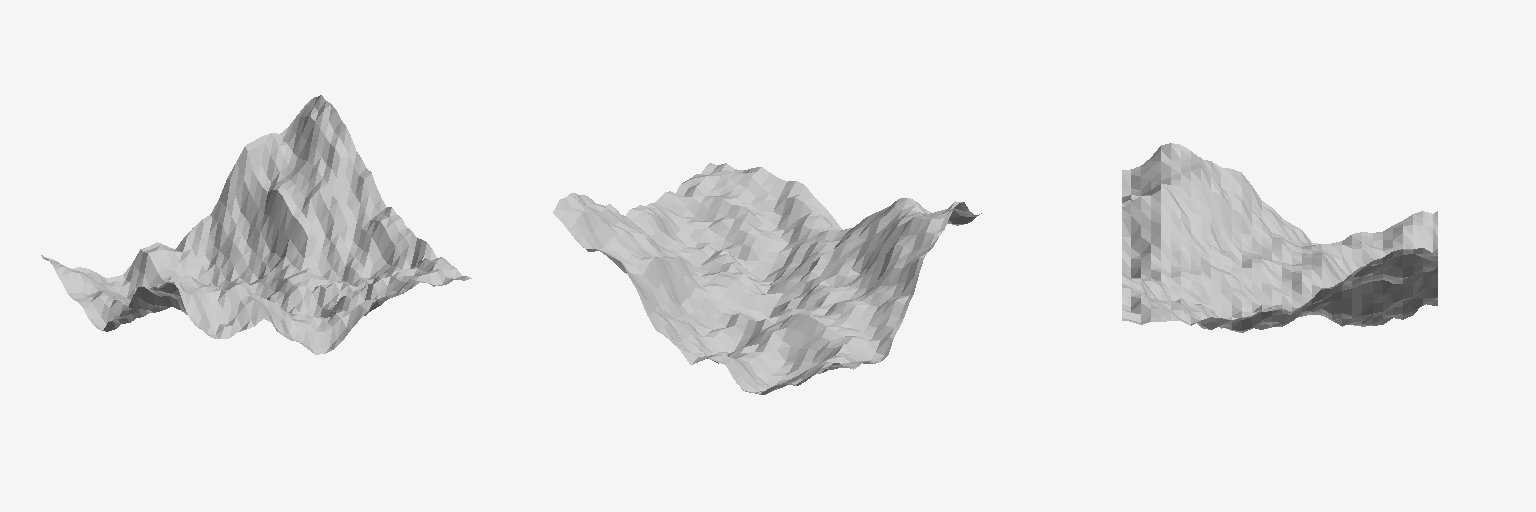
File: terrain_0_0.obj
3 renders of one model, left to right at view 1: azimuth 30°, elevation 25°; view 2: azimuth 150°, elevation 25°; view 3: azimuth 270°, elevation 25°, orthographic.
Visible parts, largest first — view 1: terrain_0_0_Plane.056; view 2: terrain_0_0_Plane.056; view 3: terrain_0_0_Plane.056.
Boxes of the visible parts, x1=… form: terrain_0_0_Plane.056: x1=41, y1=95, x2=471, y2=354; terrain_0_0_Plane.056: x1=553, y1=163, x2=981, y2=394; terrain_0_0_Plane.056: x1=1122, y1=143, x2=1437, y2=332.
Size of the model in its own units: 32 by 16.82 by 32.